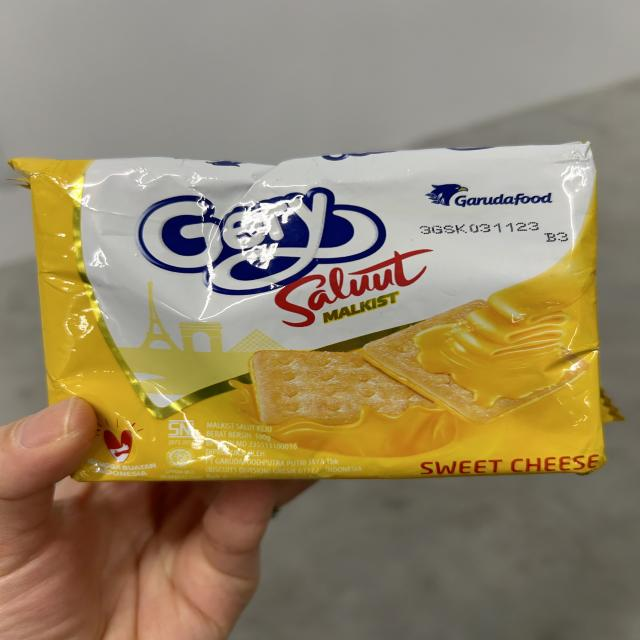object_name: (49, 162, 597, 476)
